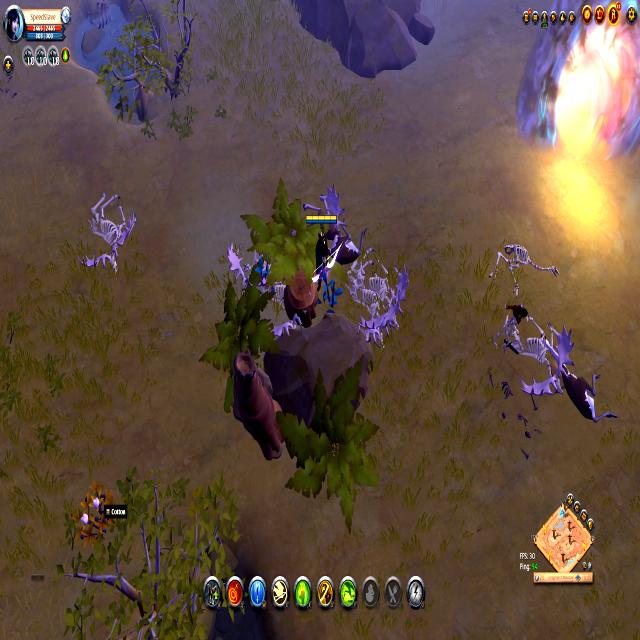hide: (79, 481, 114, 541)
mob: (550, 355, 615, 430), (319, 218, 370, 282)
ore: (486, 299, 532, 355)
red: (307, 210, 338, 279)
